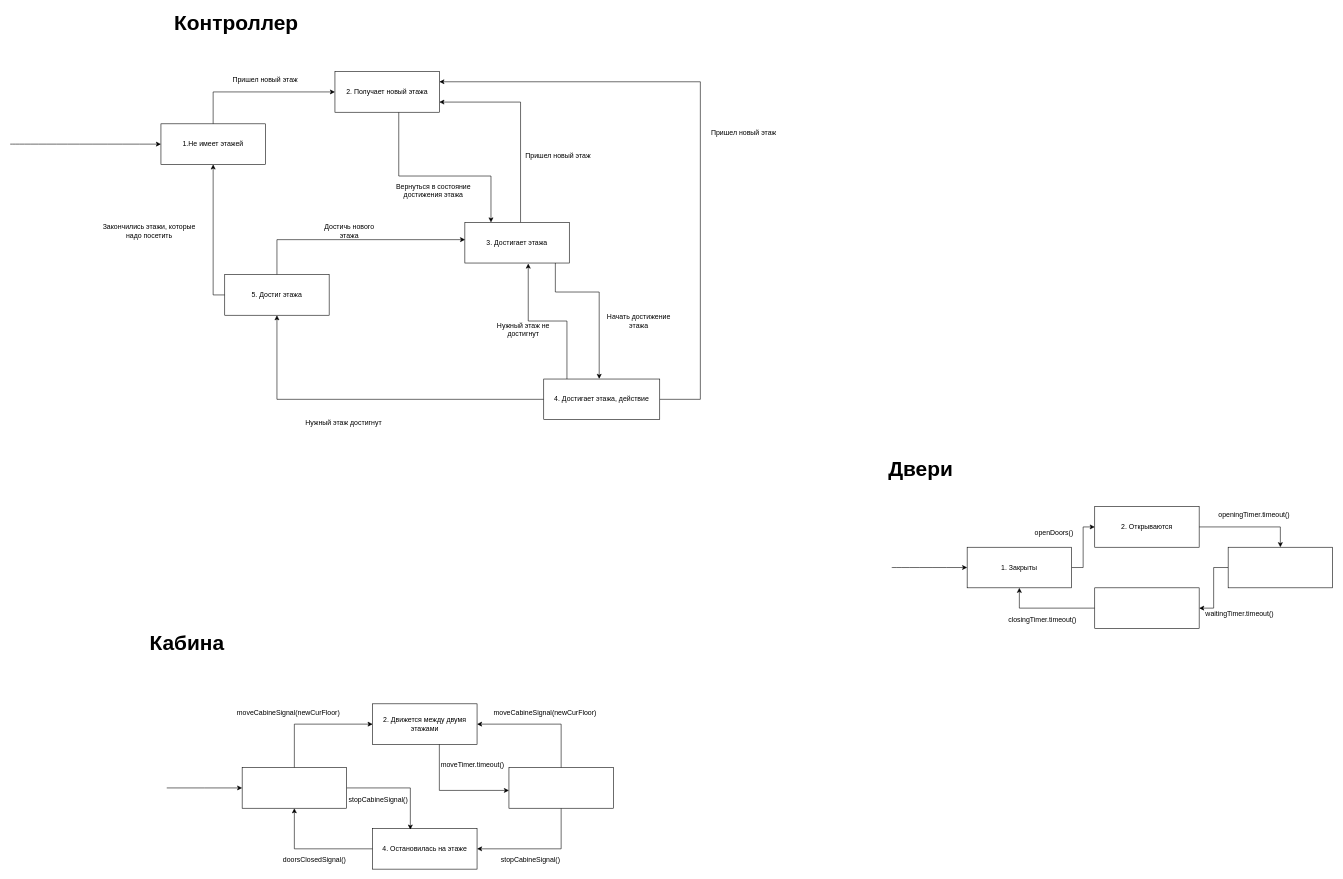
Some shapes in this 1343 by 879 pixel diagram are drawn without their labels. The shapes that lost their labels are listed below. From the top down, each one's centre as x and y in pixels, then its label:
At [1280,567]: "3. Открыты".
At [1146,607]: "4 . Закрываются".
At [294,787]: "1. Готова к движению".
At [560,787]: "3. Прошла этаж".
